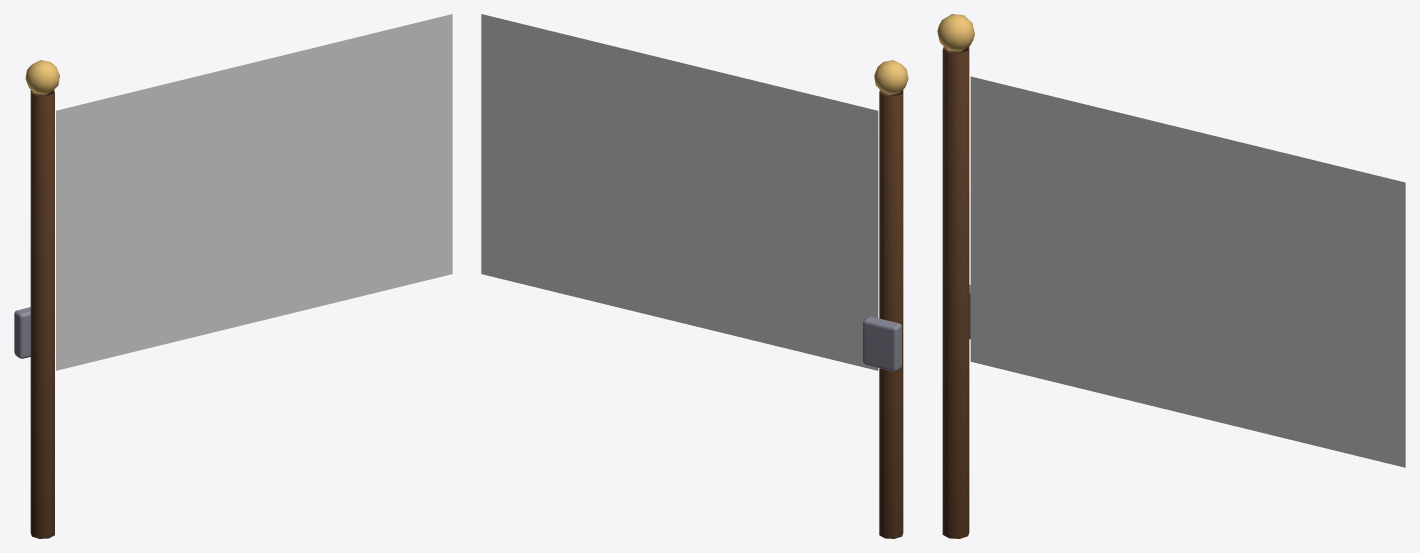
The model's file is furn_island_flag.glb.
3 renders of one model, left to right at view 1: azimuth 30°, elevation 25°; view 2: azimuth 150°, elevation 25°; view 3: azimuth 330°, elevation 25°, orthographic. The views are drawn at different scales.
Visible parts, largest first — view 1: furn_island_flag_pic, furn_island_flag_main; view 2: furn_island_flag_pic, furn_island_flag_main; view 3: furn_island_flag_pic, furn_island_flag_main.
Boxes of the visible parts, x1,y1,x2,y2 form: furn_island_flag_pic: [56, 14, 452, 370]; furn_island_flag_main: [14, 60, 59, 538]; furn_island_flag_pic: [481, 14, 878, 370]; furn_island_flag_main: [863, 60, 908, 538]; furn_island_flag_pic: [970, 76, 1405, 467]; furn_island_flag_main: [937, 14, 974, 538].
Bounding box in the file's own units: 0.98 × 1.04 × 0.085.
